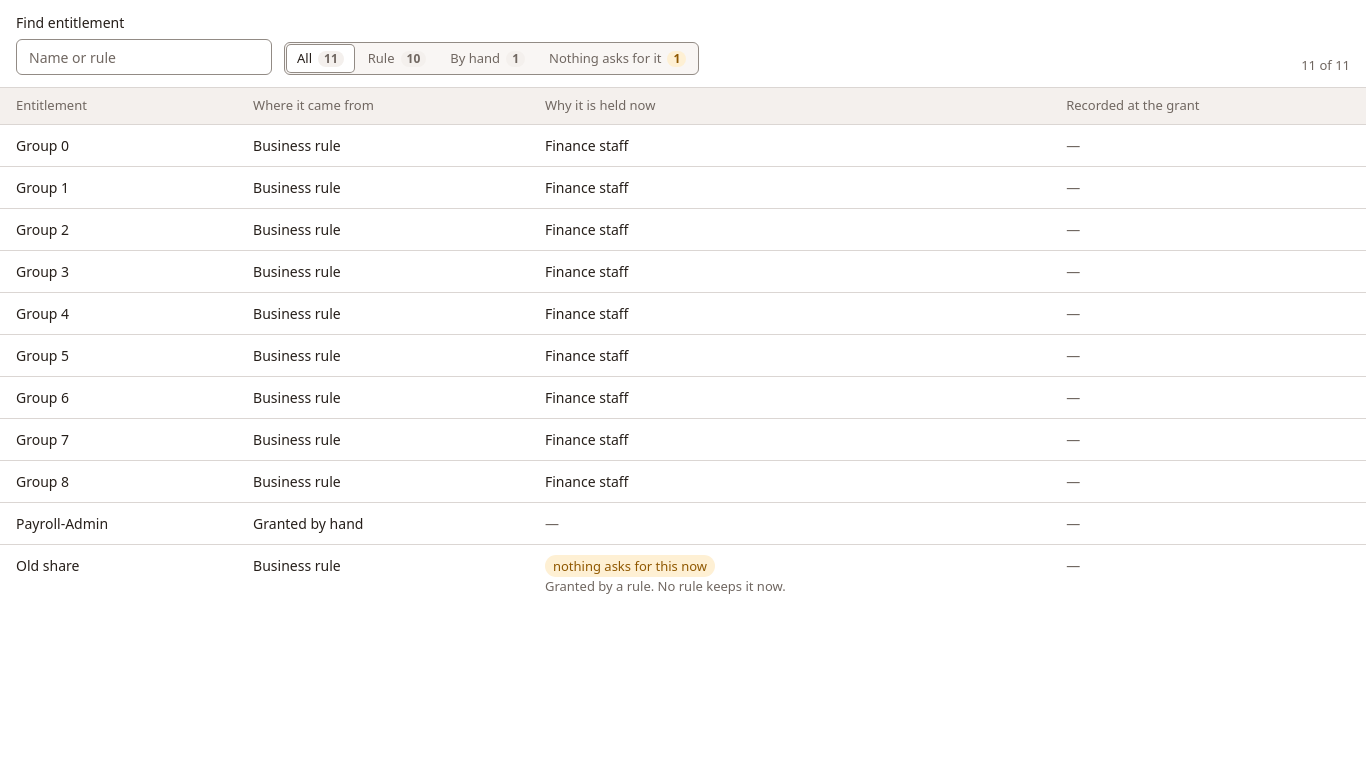
HoldingsTable › filters to the holdings nothing asks for any more
Click the button "Nothing asks for it 1". click: (618, 59)
box: [539,45,696,72]
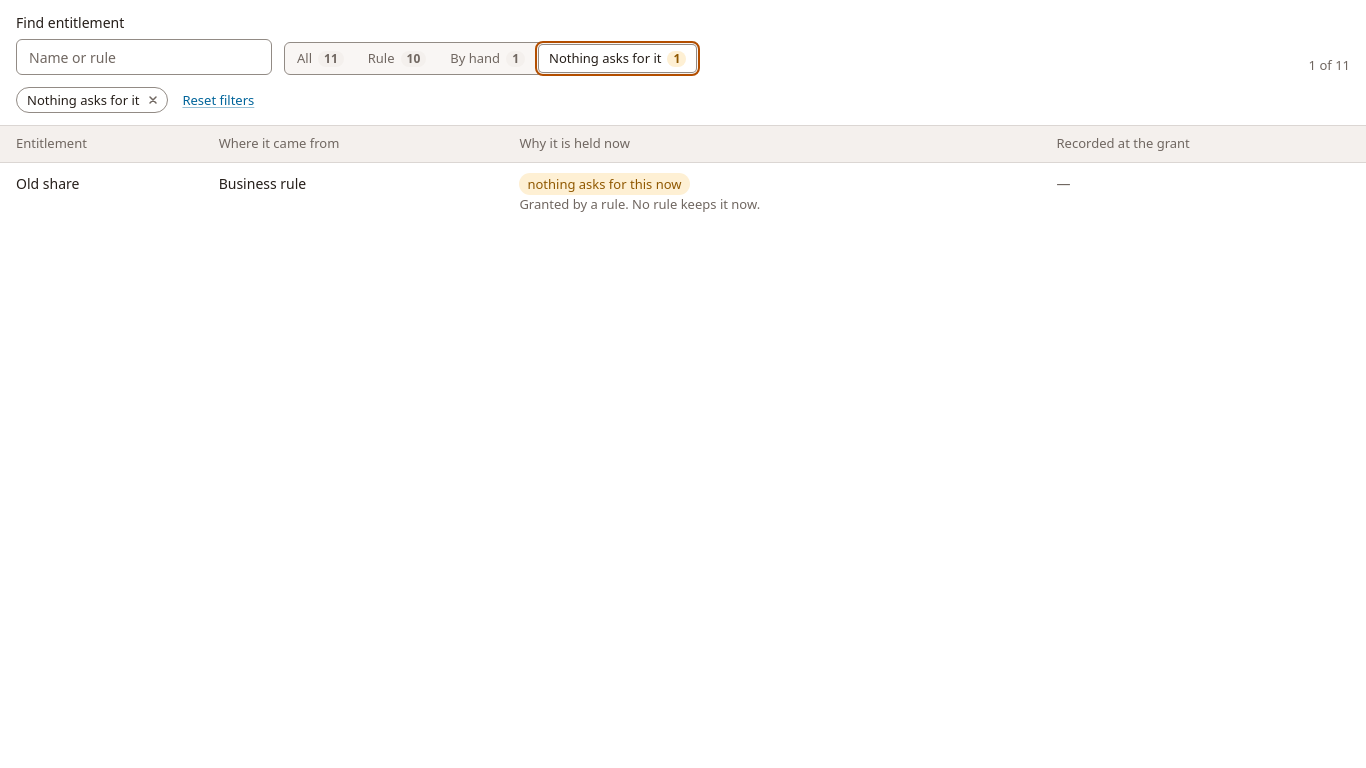
Expected: the text "Old share" is shown, [0,162,203,224]
Expected: the text "Payroll-Admin" is gone
Expected: the text "Group 1" is gone
